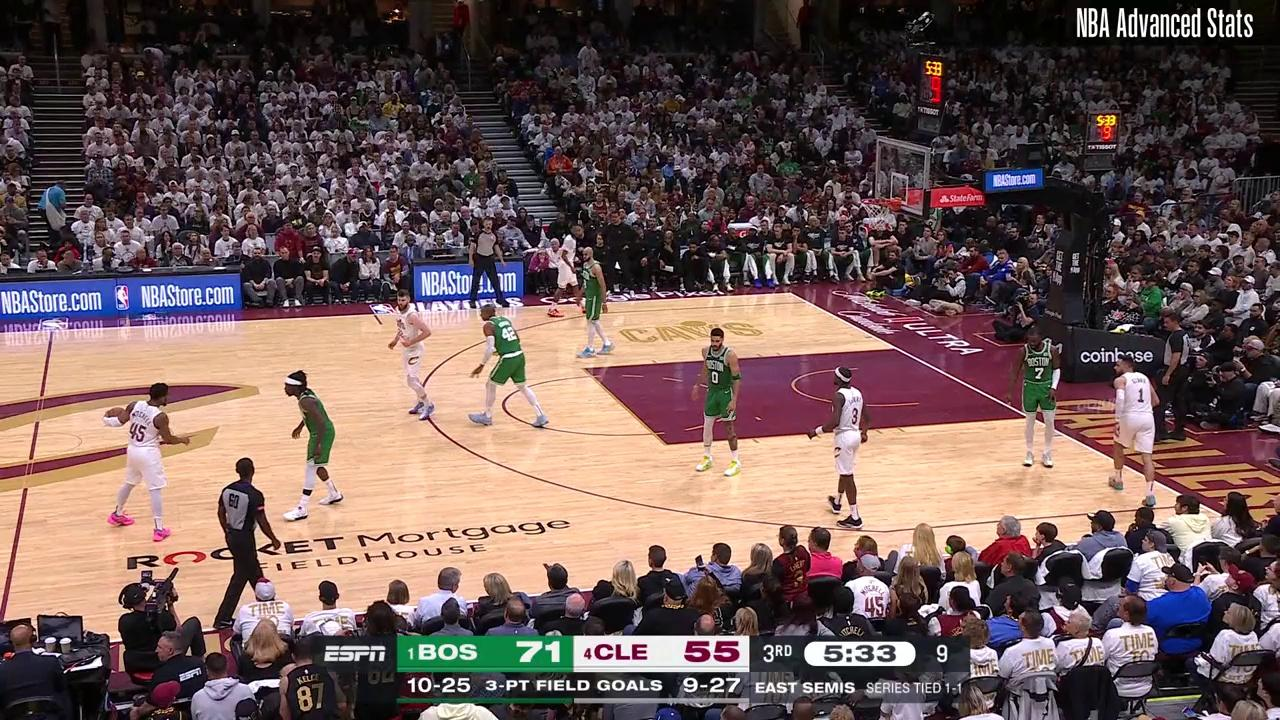3_sx: (802, 298, 812, 306)
b_sx: (785, 289, 795, 298)
free_adx: (661, 439, 670, 448)
free_asx: (575, 360, 593, 380)
free_bsx: (890, 342, 902, 354)
mid_sx: (377, 321, 384, 328)
referee: (216, 457, 276, 626), (1153, 315, 1191, 438), (468, 215, 510, 308)
team: (280, 370, 345, 523), (472, 305, 549, 430), (692, 328, 744, 479), (1011, 330, 1064, 468), (577, 246, 612, 359)
team1: (106, 383, 188, 541), (805, 367, 869, 528), (1105, 354, 1163, 505), (387, 290, 436, 422), (549, 223, 589, 317)
timer: (815, 638, 902, 669)
